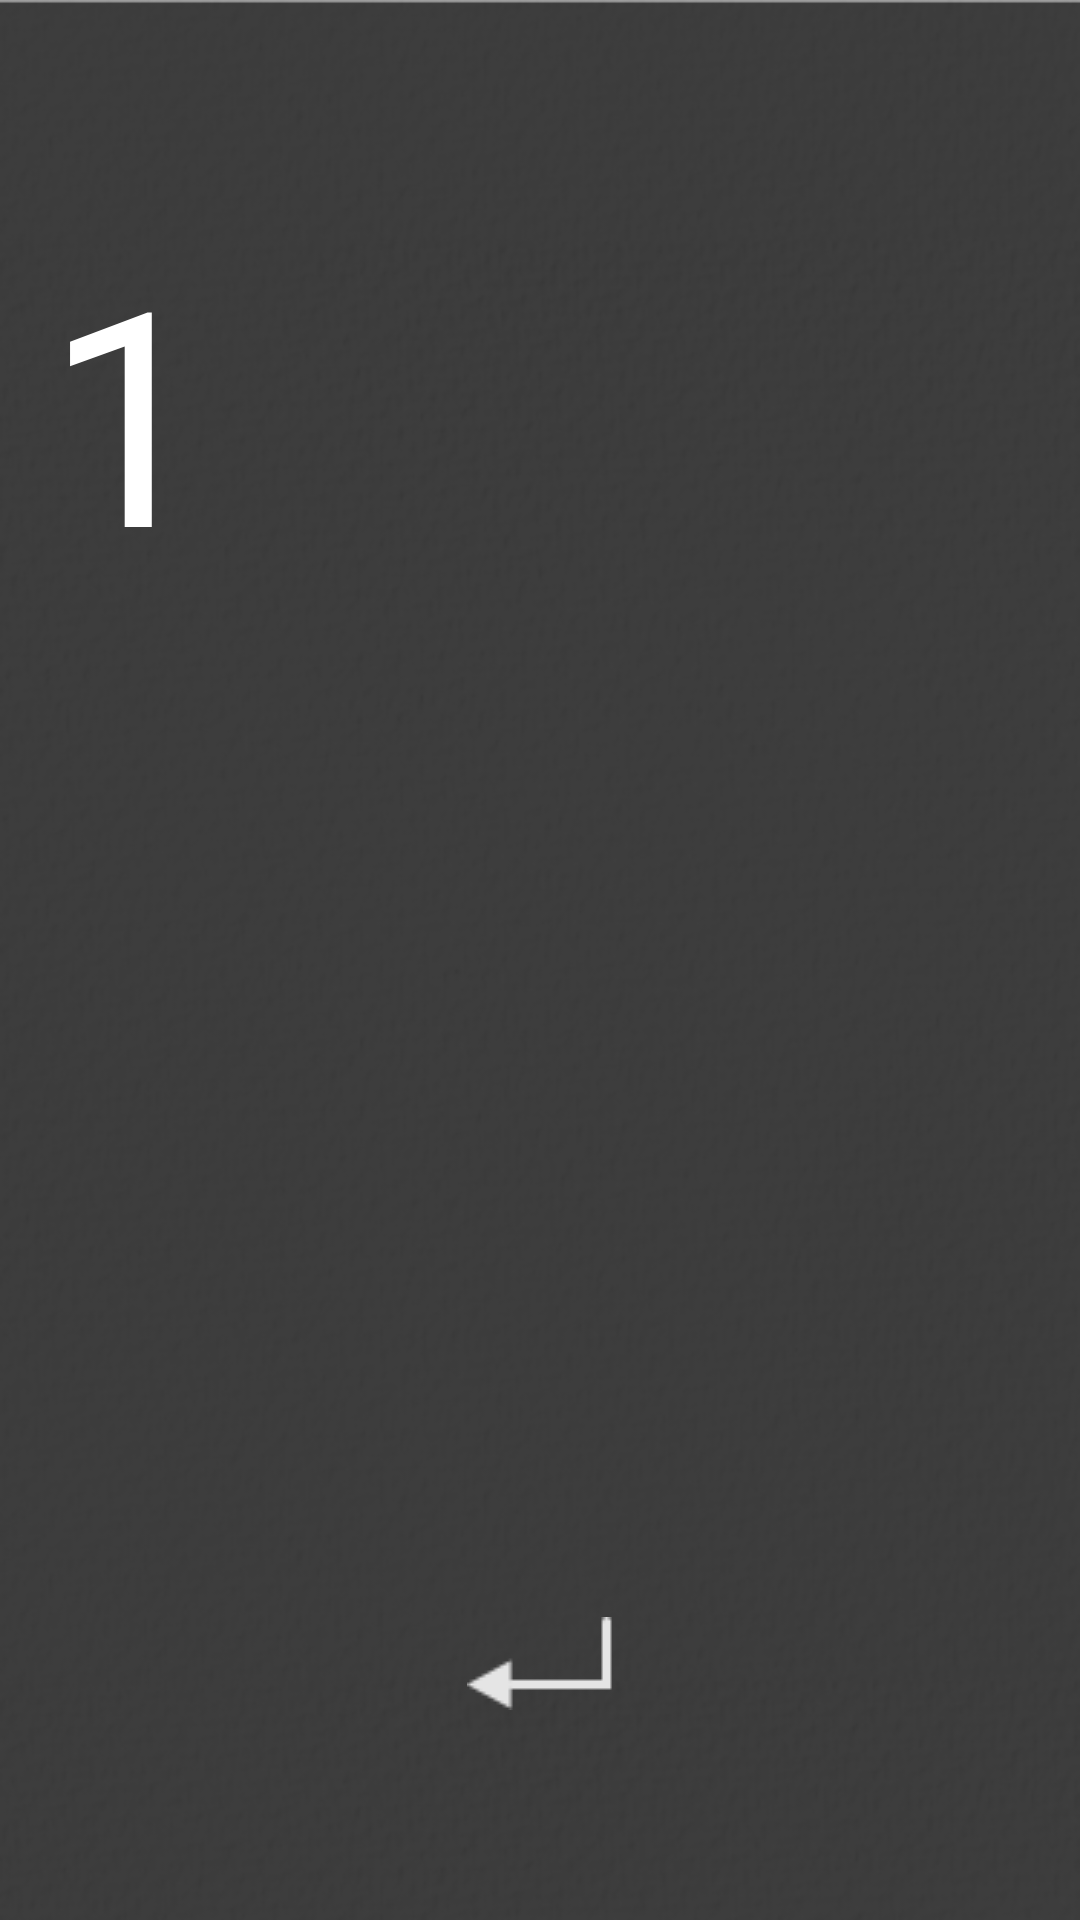

Icon bounding boxes for this 1080x1920 phone screenshot, format (x1, y1, x2, y2):
enterbtnwhite: (467, 1617, 612, 1710)
